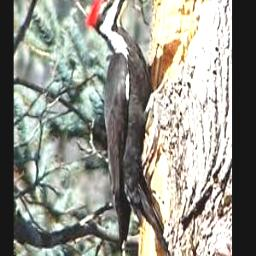Woodpecker: (87, 0, 169, 256)
